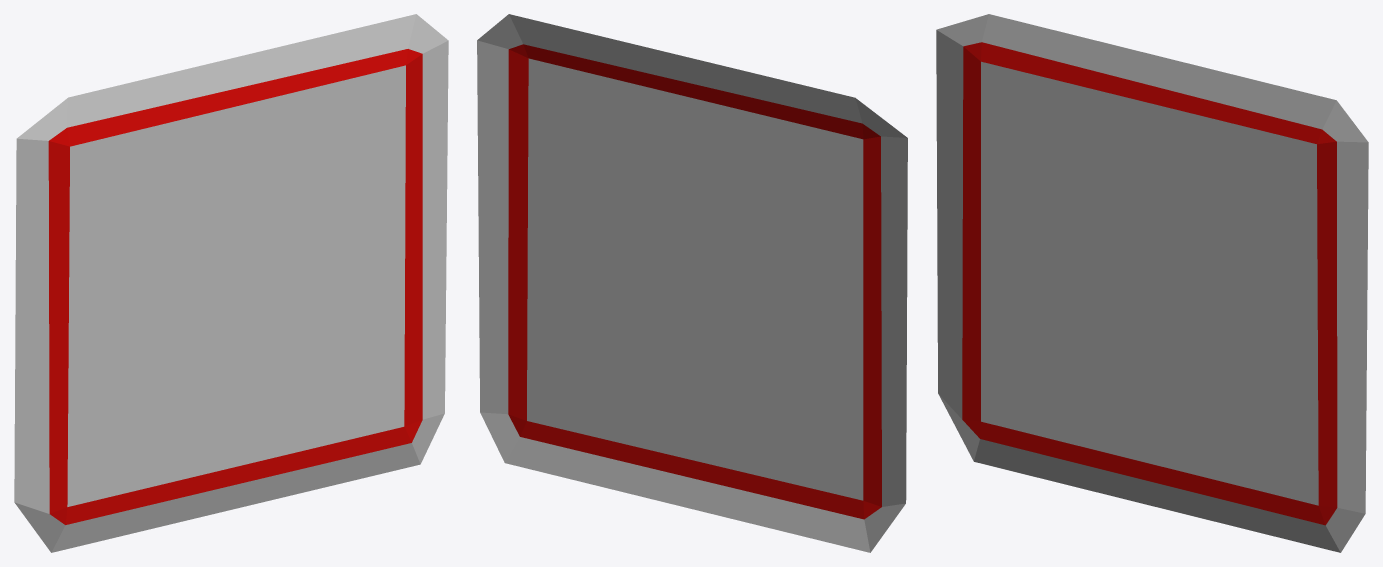
The model's file is ui_order_warningSquare.glb.
3 views of the same model, side by side, from view 1: azimuth 30°, elevation 25°; view 2: azimuth 150°, elevation 25°; view 3: azimuth 330°, elevation 25° (orthographic).
Parts seen in each view (by area): view 1: Cylinder; view 2: Cylinder; view 3: Cylinder.
Boxes of the visible parts, x1=… form: Cylinder: x1=14, y1=14, x2=448, y2=552; Cylinder: x1=477, y1=14, x2=907, y2=552; Cylinder: x1=936, y1=14, x2=1368, y2=552.
Size of the model in its own units: 1.39 by 1.4 by 0.0362.
